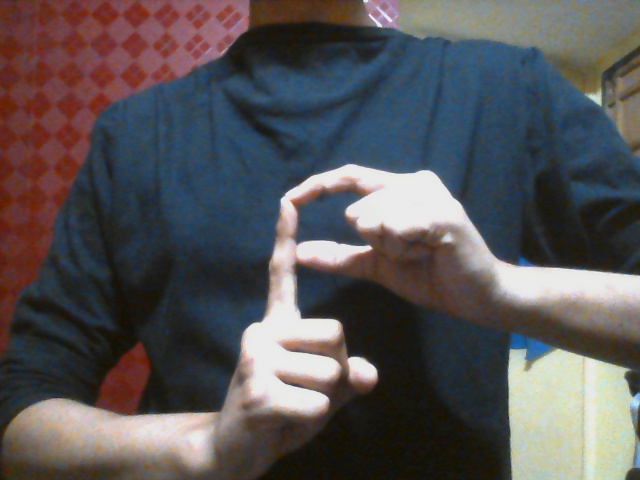P: (220, 163, 493, 460)
